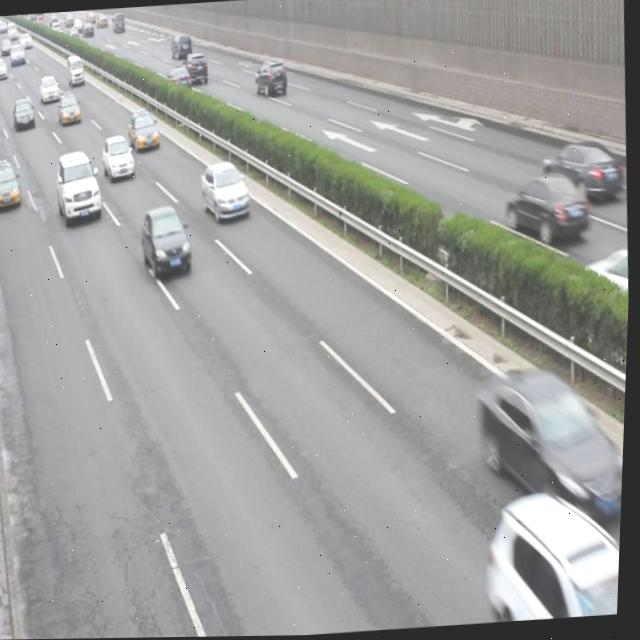car: (476, 364, 629, 532), (487, 490, 626, 624), (502, 172, 592, 250), (540, 137, 627, 211), (580, 251, 632, 341), (141, 203, 196, 280), (55, 148, 106, 226), (200, 160, 254, 224), (102, 133, 138, 184), (127, 109, 164, 156), (253, 57, 289, 101), (0, 159, 24, 215)
